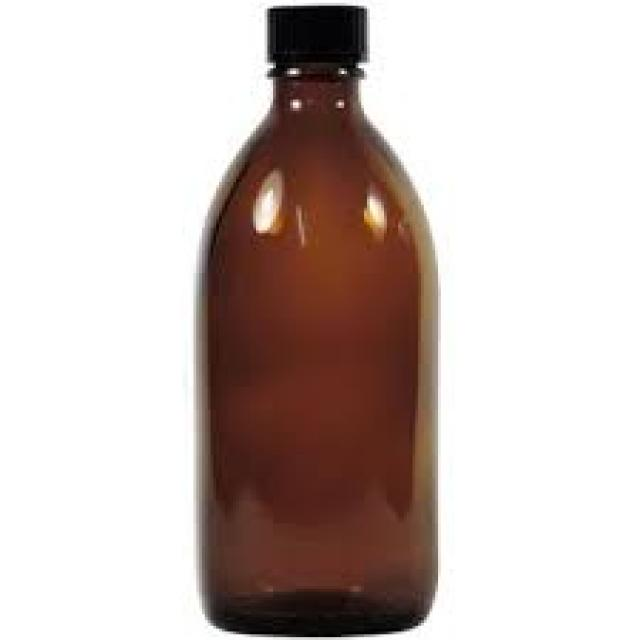glass: (205, 74, 432, 629)
